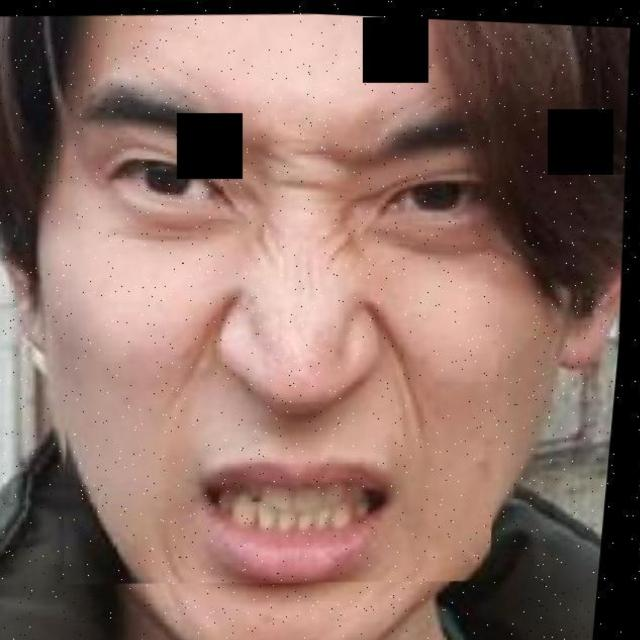Angry: (20, 9, 640, 640)
